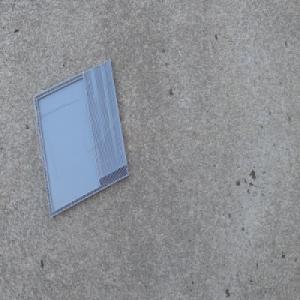PlasticPart: (33, 57, 130, 218)
